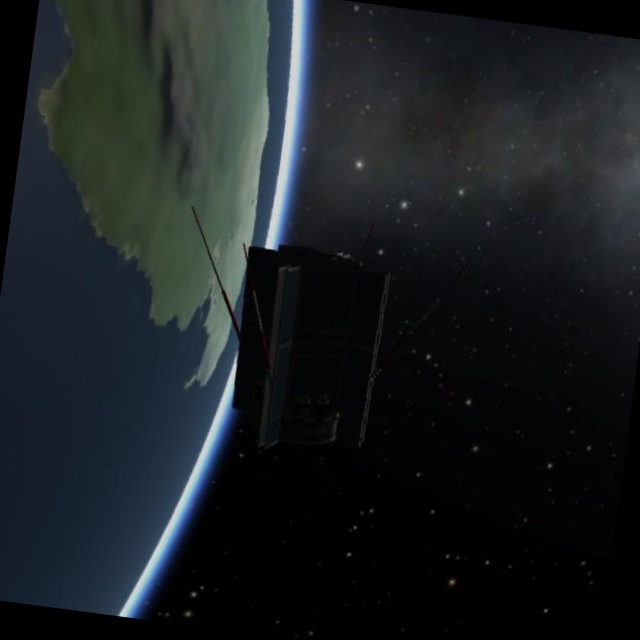medium_debris: (146, 196, 402, 507)
